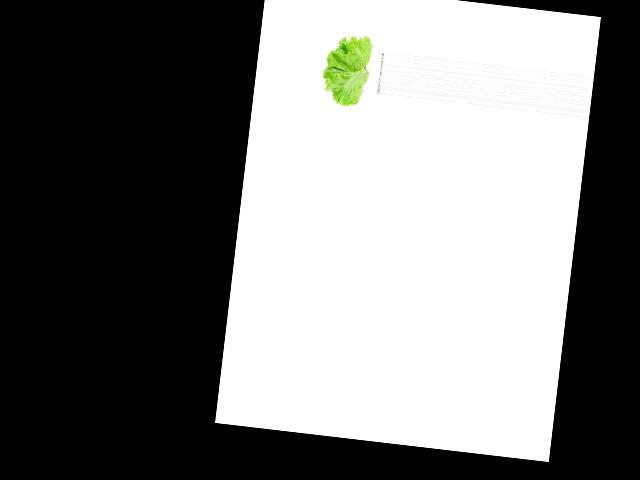lettuce: (318, 31, 382, 110)
